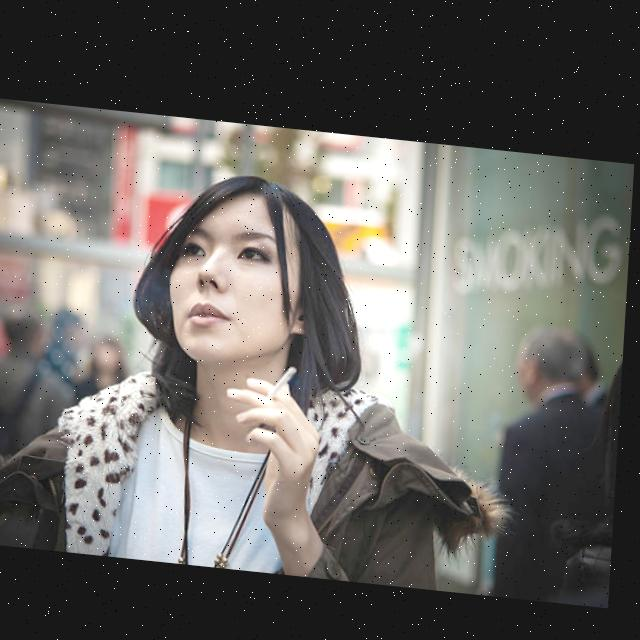cigarette: (272, 358, 301, 395)
